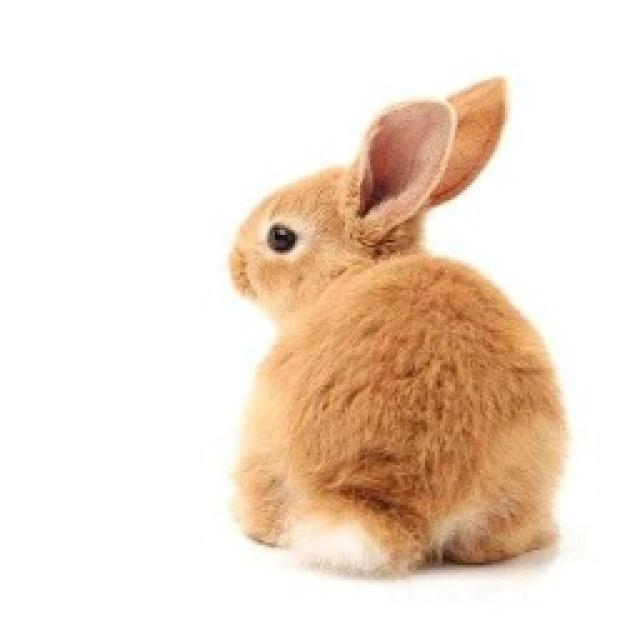not_pig: (225, 72, 570, 580)
